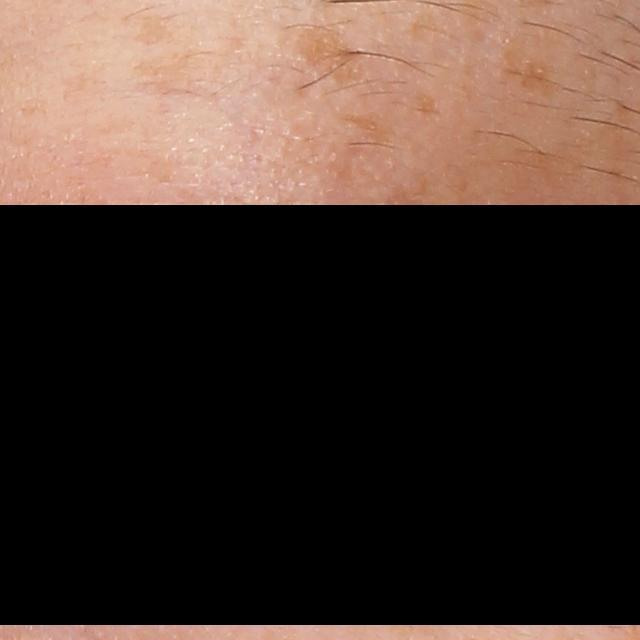melasma: (280, 21, 372, 97), (497, 47, 559, 96), (384, 175, 434, 221), (342, 109, 402, 146), (128, 13, 169, 47), (414, 87, 447, 119)
